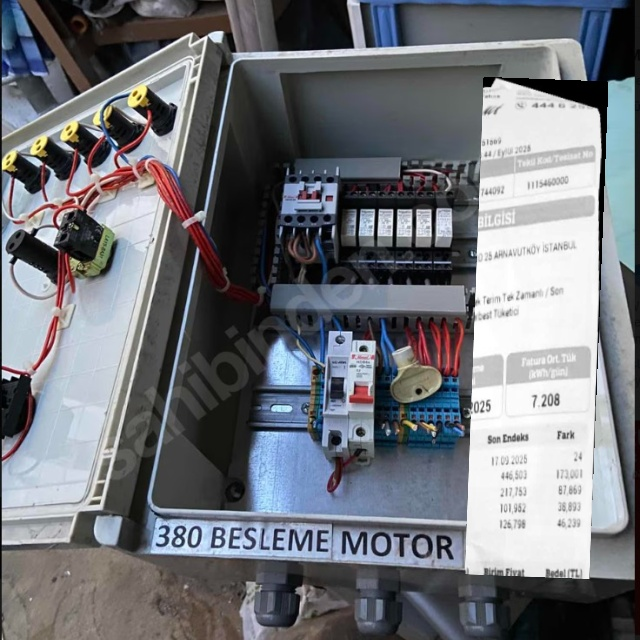electricity-bill: (464, 77, 608, 579)
